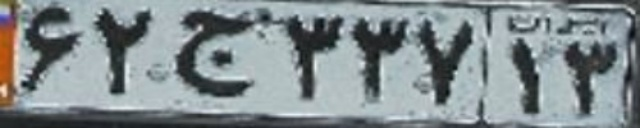1: (508, 38, 544, 113)
2: (94, 8, 149, 95)
3: (285, 15, 341, 99), (351, 15, 407, 99), (561, 38, 619, 114)
6: (15, 4, 80, 91)
7: (418, 19, 473, 106)
jim: (175, 12, 254, 95)
